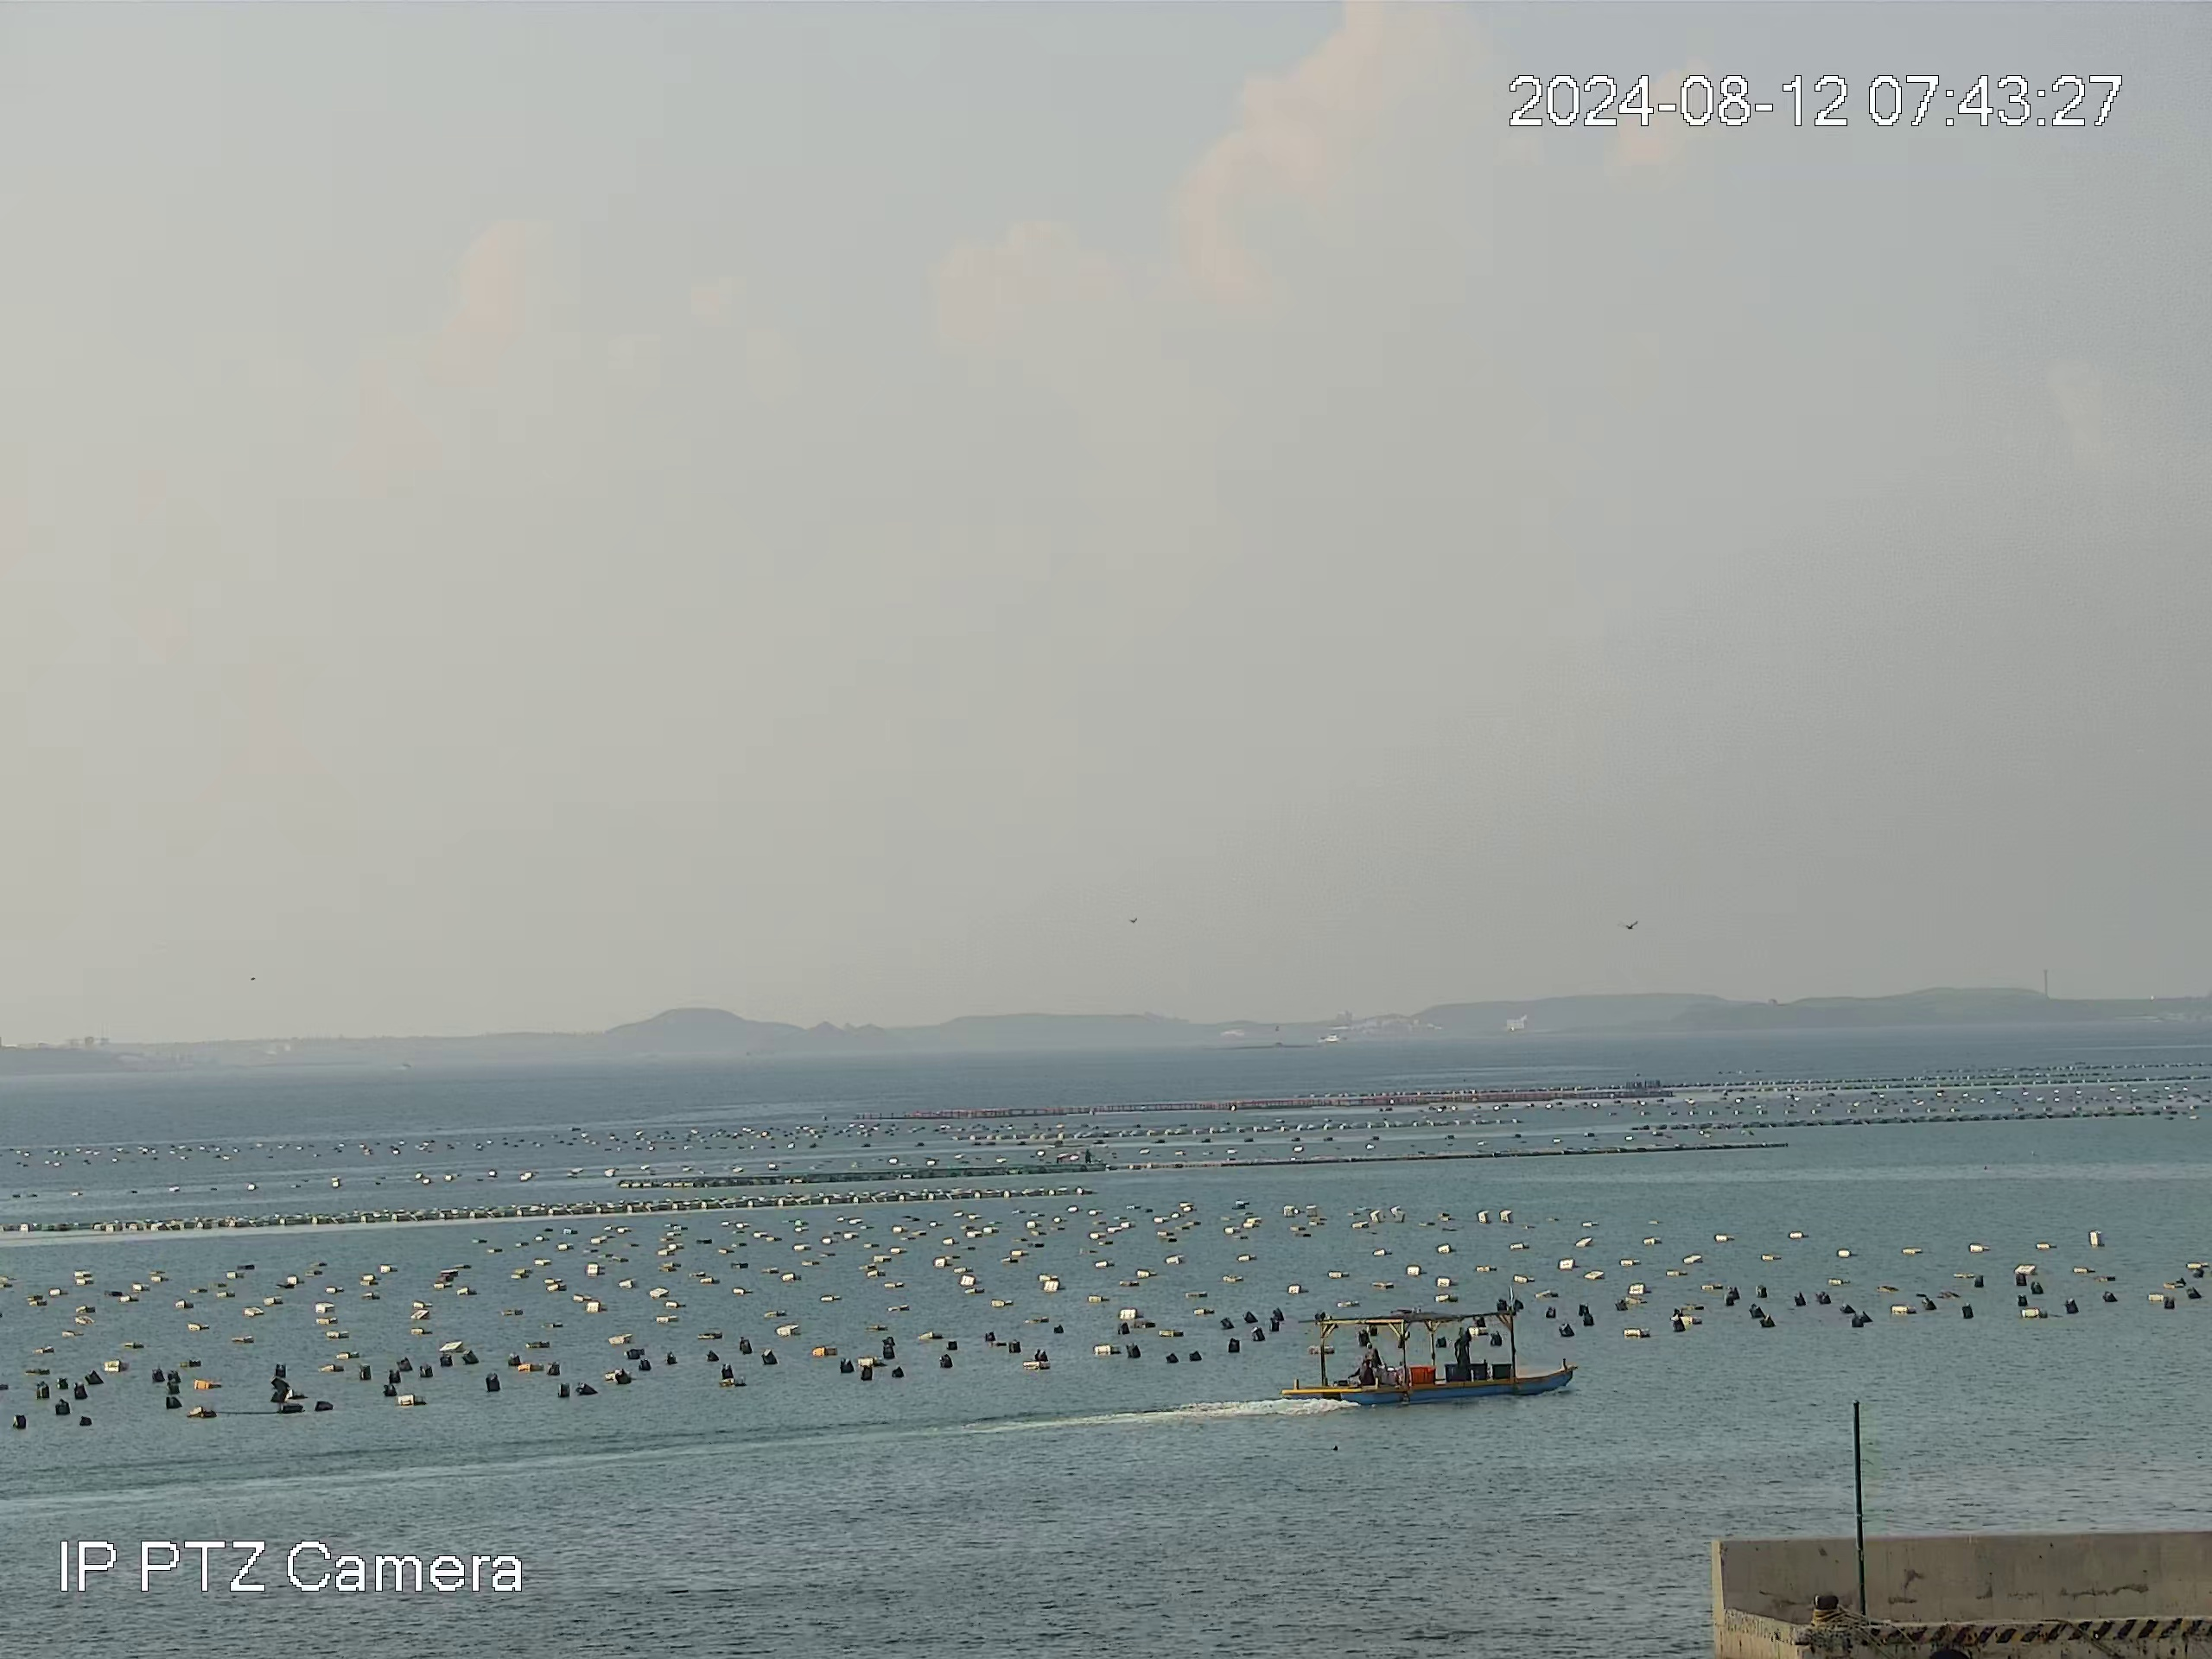boat: (1266, 1301, 1585, 1409)
